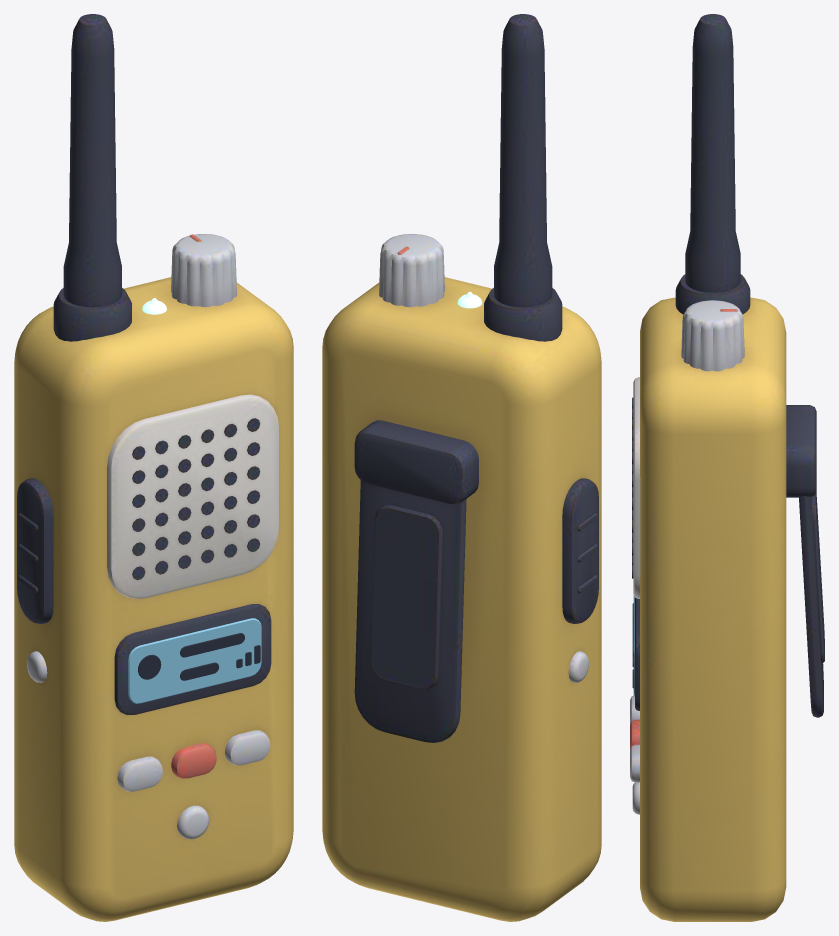
Rendered from walkie-talkie.glb.
3 renders of one model, left to right at view 1: azimuth 30°, elevation 25°; view 2: azimuth 150°, elevation 25°; view 3: azimuth 270°, elevation 25°, orthographic. The views are drawn at different scales.
Parts seen in each view (by area): view 1: walkie-talkie_body, walkie-talkie_glass; view 2: walkie-talkie_body; view 3: walkie-talkie_body.
Part boxes in pixels (box(x1,y1,x2,y2)): walkie-talkie_body: box(14, 14, 293, 921); walkie-talkie_glass: box(128, 618, 261, 703); walkie-talkie_body: box(322, 14, 601, 921); walkie-talkie_body: box(630, 14, 824, 921).
Bounding box in the file's own units: 0.0653 × 0.2285 × 0.0479.
4 materials, 1 textured.
